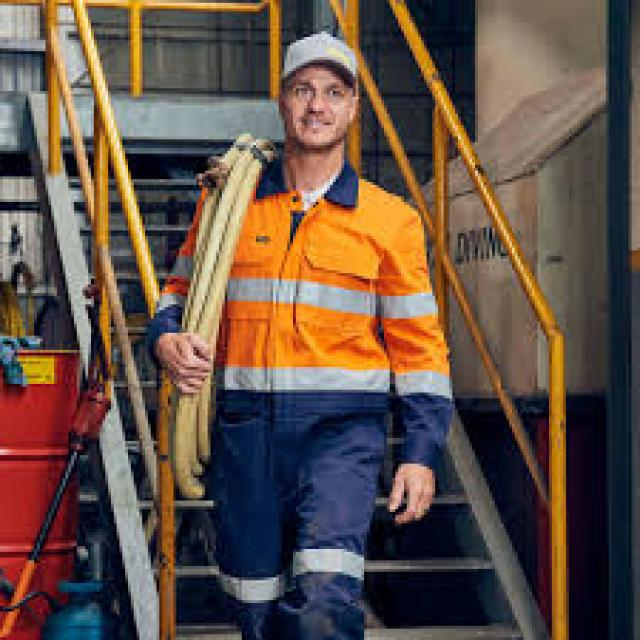vest: (214, 162, 452, 634)
